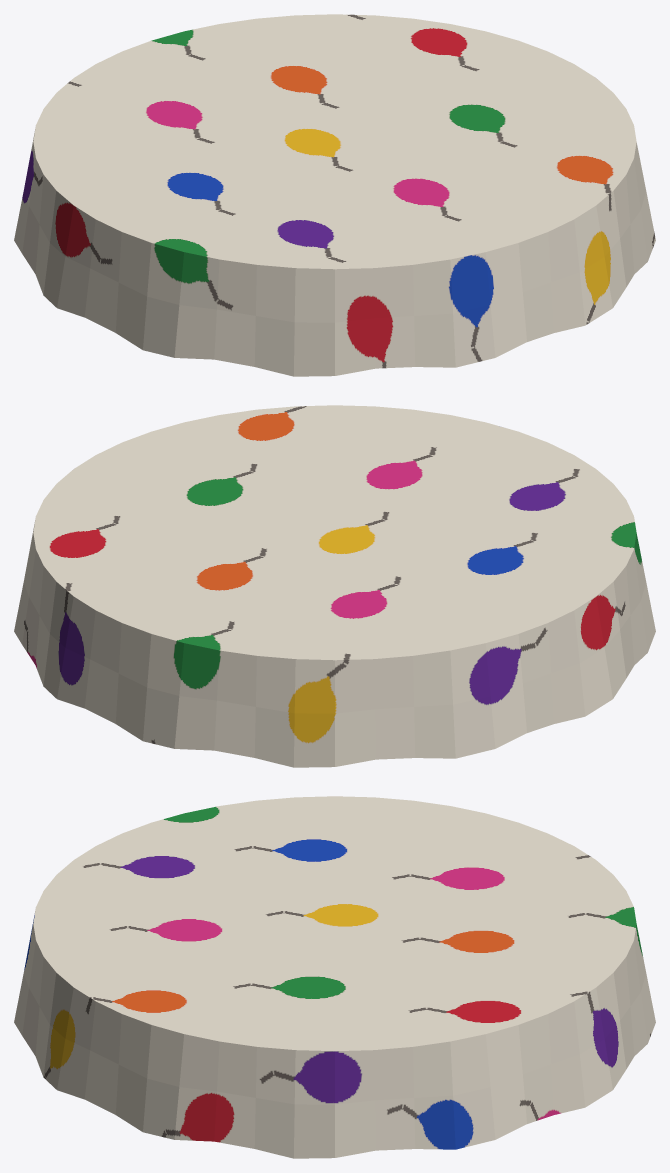
The model's file is party_cloth_round_balloons.glb.
3 renders of one model, top to bottom at view 1: azimuth 30°, elevation 25°; view 2: azimuth 150°, elevation 25°; view 3: azimuth 270°, elevation 25°, orthographic.
Visible parts, largest first — view 1: party_cloth_round_balloons; view 2: party_cloth_round_balloons; view 3: party_cloth_round_balloons.
Boxes of the visible parts, x1,y1,x2,y2 form: party_cloth_round_balloons: [14, 14, 655, 376]; party_cloth_round_balloons: [14, 405, 655, 767]; party_cloth_round_balloons: [14, 796, 655, 1158].
Bounding box in the file's own units: 1.29 × 0.2284 × 1.29.
1 material, 1 textured.
